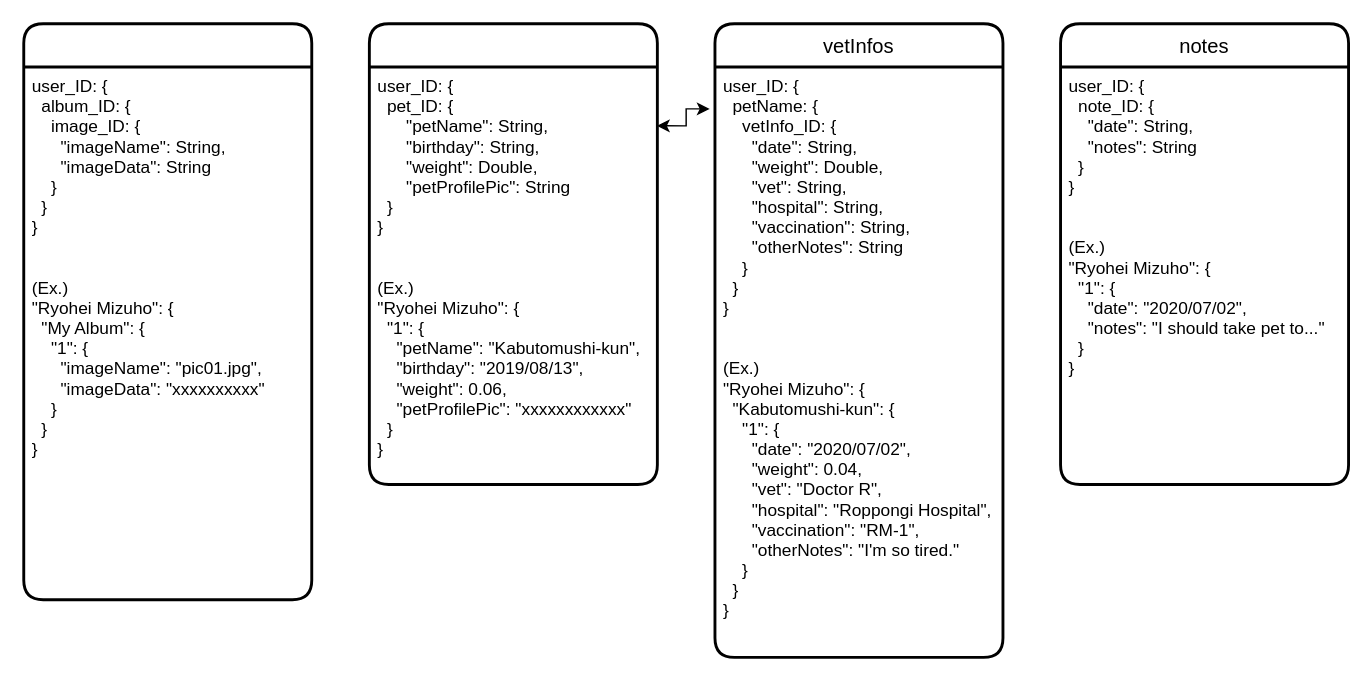
The diagram is 1372 pixels wide and 681 high, and some of its shapes have lost their labels. Here are the shapes that lost their labels. From the top down, the box of each, then its label:
(367, 22, 658, 485): pets
(22, 22, 312, 600): images
